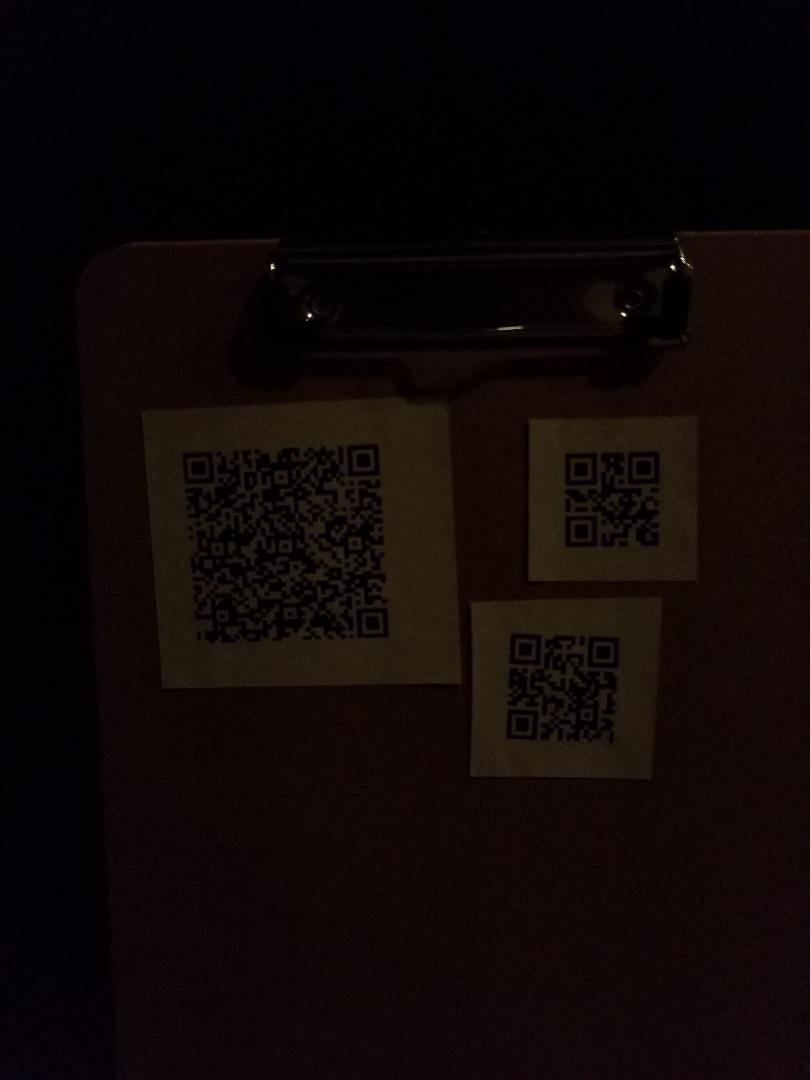Finder pattern: (503, 704, 544, 747), (176, 447, 220, 487), (351, 603, 395, 643), (559, 447, 602, 487), (584, 630, 625, 671), (563, 512, 603, 553), (623, 447, 664, 486), (346, 440, 385, 478), (505, 629, 545, 666)
